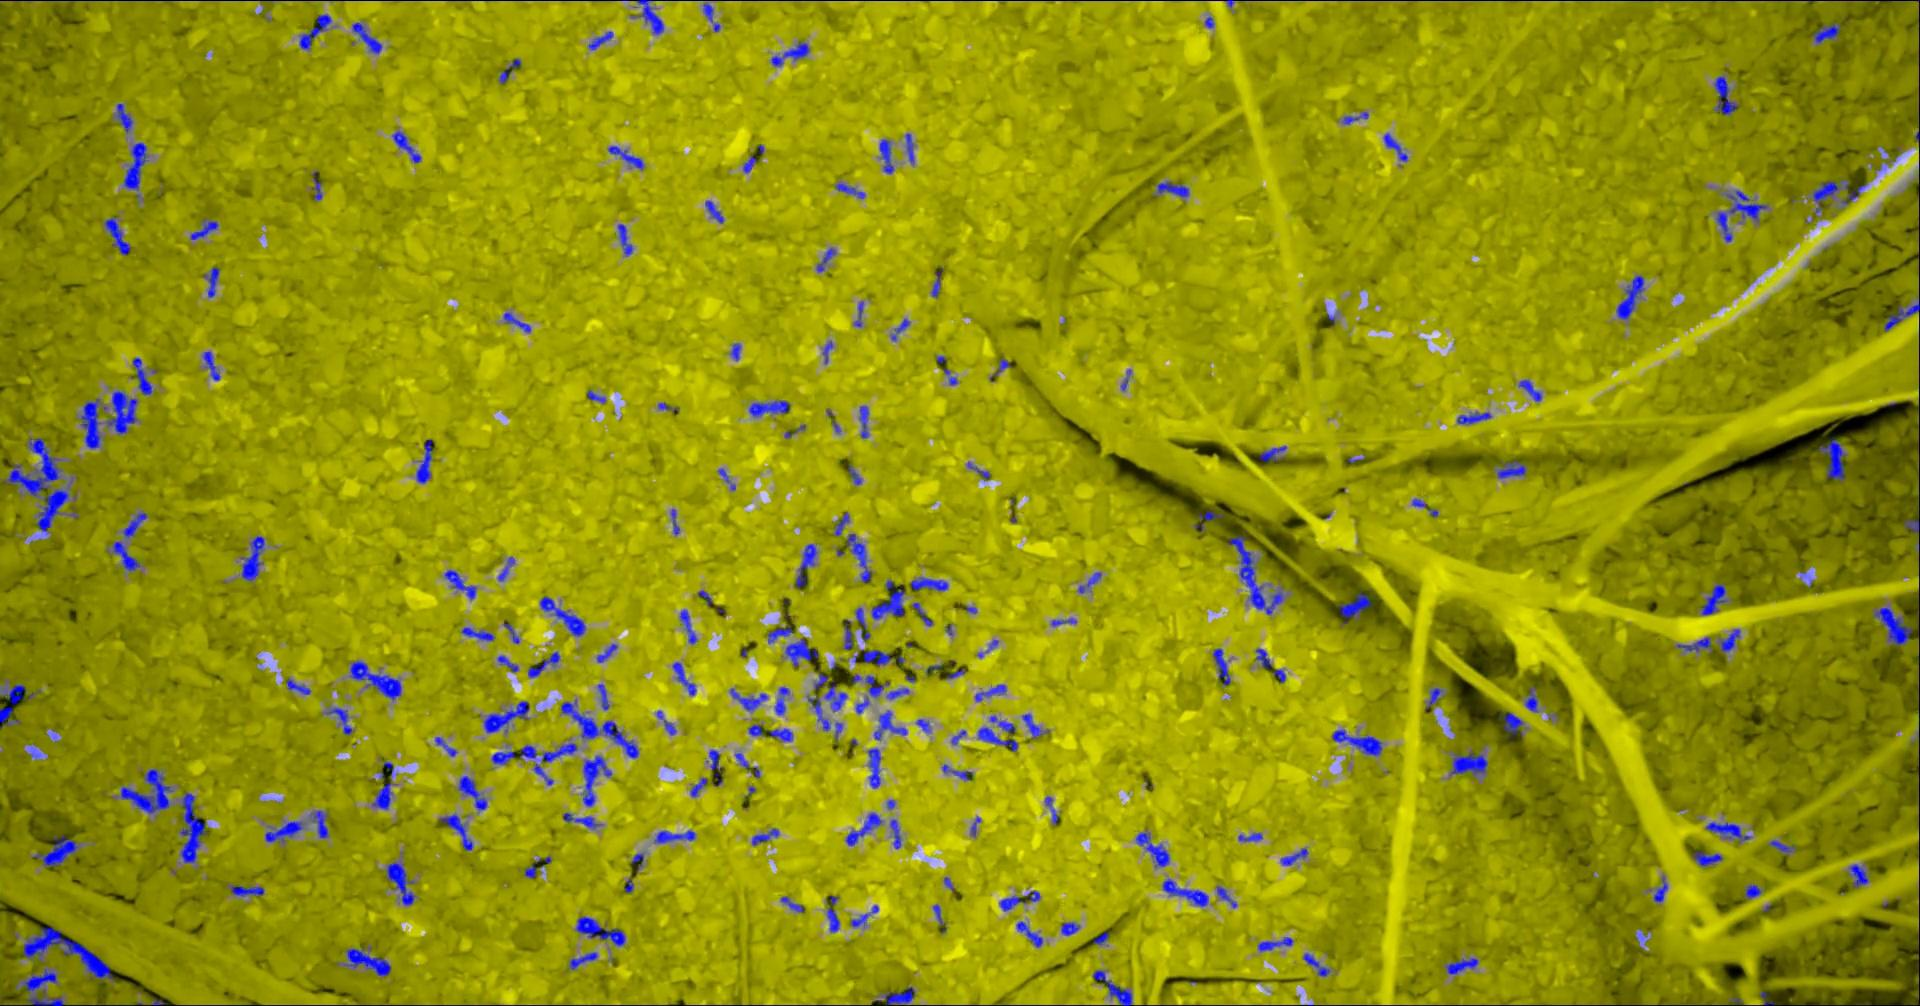ant: (560, 700, 637, 757), (1227, 535, 1283, 614), (1716, 191, 1766, 243), (119, 768, 171, 813), (349, 661, 401, 700), (538, 596, 585, 636), (180, 793, 206, 862), (1812, 180, 1865, 213), (22, 968, 63, 1005), (582, 754, 611, 807), (483, 700, 530, 732), (1874, 607, 1911, 647), (575, 916, 625, 945), (36, 488, 69, 531), (105, 390, 137, 434), (1092, 969, 1131, 1005), (34, 835, 77, 866), (345, 945, 390, 976), (123, 142, 147, 198), (1816, 437, 1845, 481), (1331, 729, 1382, 754), (1162, 878, 1208, 906), (385, 861, 414, 904), (871, 580, 904, 619), (844, 533, 870, 582), (844, 812, 881, 845), (1135, 832, 1170, 866), (298, 14, 331, 50), (439, 814, 472, 850), (1617, 276, 1643, 319), (1884, 298, 1919, 332), (240, 535, 264, 580), (0, 683, 25, 727), (1338, 591, 1371, 624), (632, 0, 663, 34), (783, 636, 818, 667), (80, 398, 100, 448), (104, 216, 130, 255), (458, 775, 486, 810), (352, 22, 382, 53), (444, 569, 476, 600), (872, 710, 905, 739), (795, 542, 817, 587), (1705, 821, 1750, 842), (770, 42, 809, 66), (977, 727, 1017, 749), (1714, 76, 1738, 114), (392, 131, 420, 163), (851, 674, 889, 697), (607, 145, 643, 169), (806, 695, 830, 730), (1450, 751, 1487, 774), (729, 688, 767, 710), (1700, 582, 1726, 614), (527, 652, 559, 677), (264, 821, 303, 841), (999, 890, 1039, 911), (112, 541, 138, 570), (672, 662, 695, 695), (1016, 921, 1043, 948), (325, 708, 350, 735), (132, 357, 151, 394), (1211, 648, 1230, 685), (122, 512, 147, 539), (541, 742, 577, 761), (1383, 133, 1407, 161), (1498, 711, 1523, 739), (748, 400, 789, 417), (417, 439, 432, 483), (824, 681, 846, 711), (1302, 953, 1330, 976), (563, 812, 599, 828), (1811, 22, 1839, 43), (189, 218, 218, 239), (706, 749, 723, 785), (884, 986, 914, 1005), (1194, 511, 1222, 531), (679, 608, 696, 643), (1676, 636, 1710, 653), (974, 683, 1006, 701), (1496, 459, 1525, 478), (498, 58, 521, 83), (1517, 379, 1542, 401), (1021, 713, 1043, 738), (371, 782, 391, 809), (1446, 956, 1477, 974), (654, 829, 695, 842), (825, 895, 839, 932), (587, 30, 613, 50), (503, 312, 530, 332), (1156, 180, 1189, 196), (867, 748, 880, 788), (1258, 445, 1286, 462), (310, 810, 328, 838), (569, 951, 597, 969), (1078, 572, 1101, 593), (989, 357, 1010, 381), (1718, 627, 1738, 652), (617, 224, 632, 255), (203, 265, 218, 297), (909, 577, 947, 589), (941, 763, 973, 779), (116, 103, 132, 132), (879, 138, 893, 173), (1257, 936, 1291, 950), (912, 602, 932, 625), (1691, 851, 1722, 866), (1848, 864, 1868, 887), (862, 649, 890, 666), (750, 828, 778, 845), (703, 199, 723, 224), (817, 246, 836, 271), (834, 183, 863, 198), (203, 351, 218, 380), (855, 607, 869, 639), (1280, 848, 1307, 865), (434, 735, 456, 756), (890, 318, 909, 340), (1457, 412, 1491, 424), (968, 461, 990, 480), (497, 556, 514, 580), (767, 625, 792, 641), (461, 627, 494, 640), (596, 643, 617, 662), (533, 763, 552, 785), (1217, 885, 1236, 907), (775, 686, 789, 714), (1044, 796, 1058, 824), (284, 678, 310, 694), (780, 895, 803, 912), (1653, 875, 1667, 902), (834, 511, 850, 535), (1425, 687, 1441, 709), (1342, 111, 1368, 124), (1768, 840, 1796, 852), (932, 904, 945, 932), (841, 619, 852, 649), (690, 777, 707, 796), (858, 405, 869, 438), (503, 622, 519, 643), (1255, 648, 1271, 668), (230, 885, 263, 895), (889, 819, 900, 848), (497, 655, 518, 671), (1524, 686, 1537, 711), (597, 683, 608, 709), (770, 728, 792, 741), (491, 751, 514, 763), (312, 171, 323, 199), (847, 464, 861, 484), (524, 864, 543, 878), (1903, 518, 1919, 535), (1743, 884, 1761, 898), (886, 687, 908, 699), (585, 389, 604, 401), (630, 854, 643, 873), (1060, 922, 1079, 935), (931, 271, 940, 297), (670, 508, 679, 535), (742, 155, 756, 171), (519, 744, 536, 758), (855, 301, 863, 326), (850, 913, 867, 926), (905, 133, 913, 163), (1238, 832, 1262, 841), (855, 697, 869, 713), (814, 673, 827, 690), (998, 720, 1015, 733), (1092, 931, 1109, 944), (916, 719, 930, 732), (703, 3, 712, 22), (730, 343, 740, 359), (1272, 669, 1285, 682), (748, 724, 762, 735), (1051, 619, 1076, 625)
